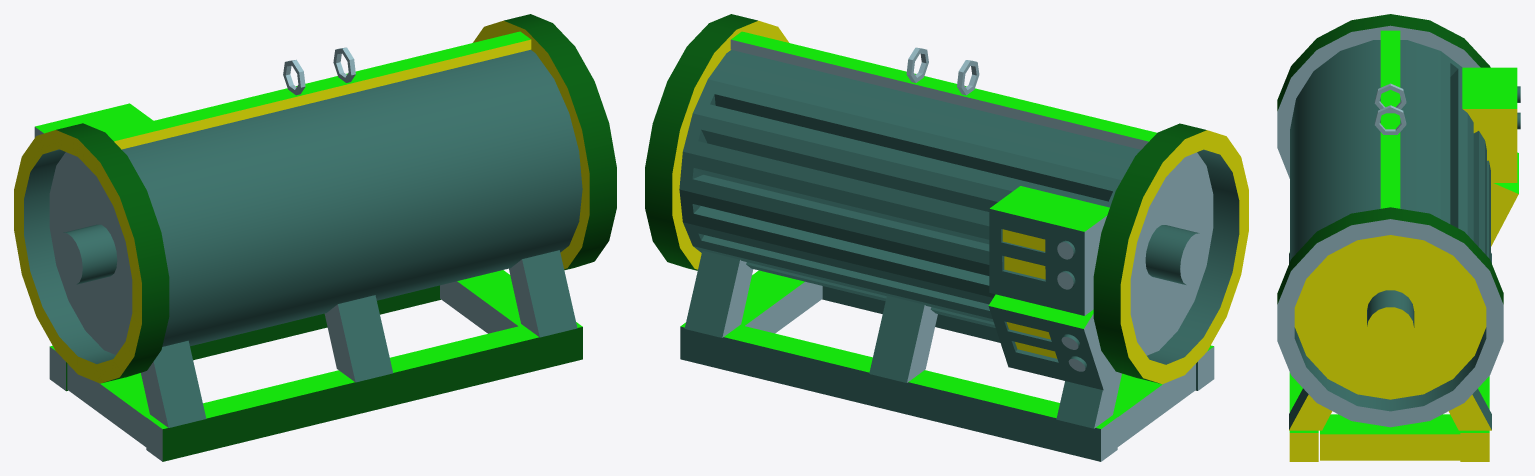
The model's file is generator.FBX.
The picture shows the model from 3 angles, left to right: view 1: azimuth 30°, elevation 25°; view 2: azimuth 150°, elevation 25°; view 3: azimuth 270°, elevation 25°; orthographic projection. The views are drawn at different scales.
Parts seen in each view (by area): view 1: Cylinder001; view 2: Cylinder001; view 3: Cylinder001.
Boxes of the visible parts, x1,y1,x2,y2 form: Cylinder001: (14, 14, 616, 461); Cylinder001: (645, 14, 1248, 461); Cylinder001: (1277, 14, 1520, 461).
Bounding box in the file's own units: 8956 × 5417 × 4301.
